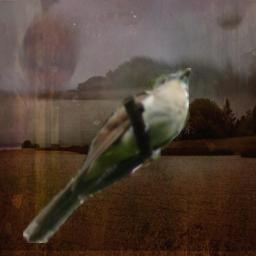Cuckoo: (23, 68, 191, 243)
